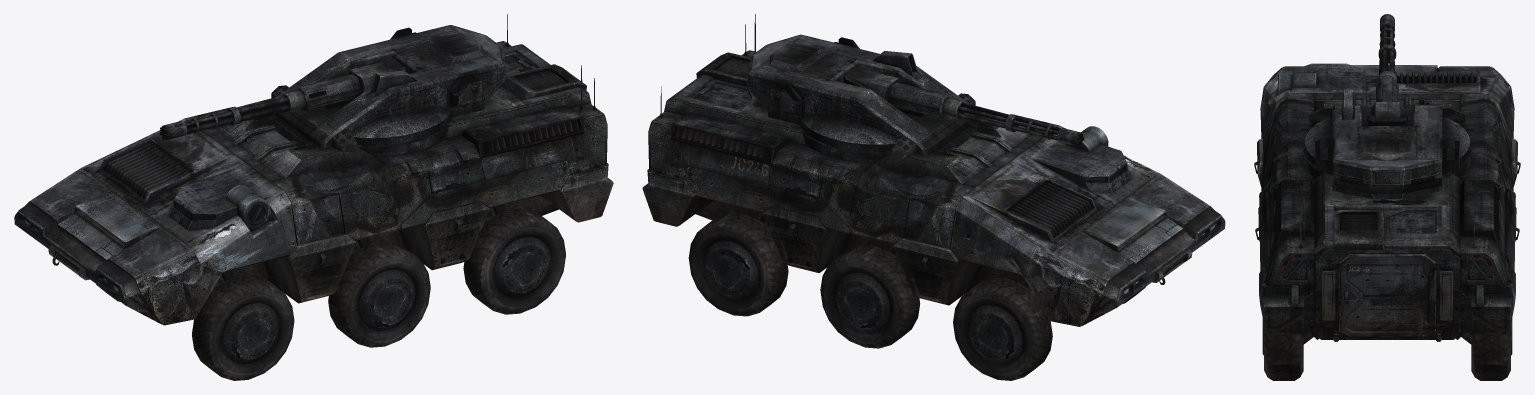
The model's file is frontlinesapc_minigun.dae.
The picture shows the model from 3 angles, left to right: view 1: azimuth 30°, elevation 25°; view 2: azimuth 150°, elevation 25°; view 3: azimuth 270°, elevation 25°; orthographic projection. The views are drawn at different scales.
Parts seen in each view (by area): view 1: AntiAir; view 2: AntiAir; view 3: AntiAir.
Boxes of the visible parts, x1,y1,x2,y2 form: AntiAir: (14,14,613,380); AntiAir: (642,14,1225,380); AntiAir: (1254,14,1520,380).
Size of the model in its own units: 272 by 127 by 124.
Materials: 1 (1 with a texture image).
